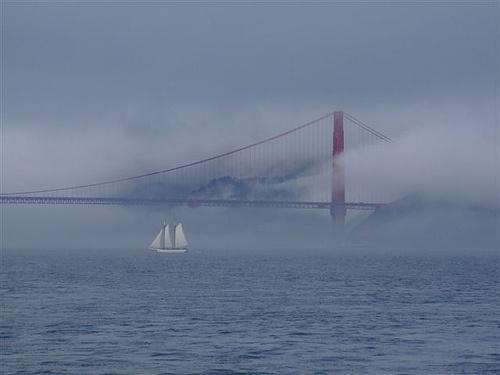boat: (150, 220, 191, 255)
